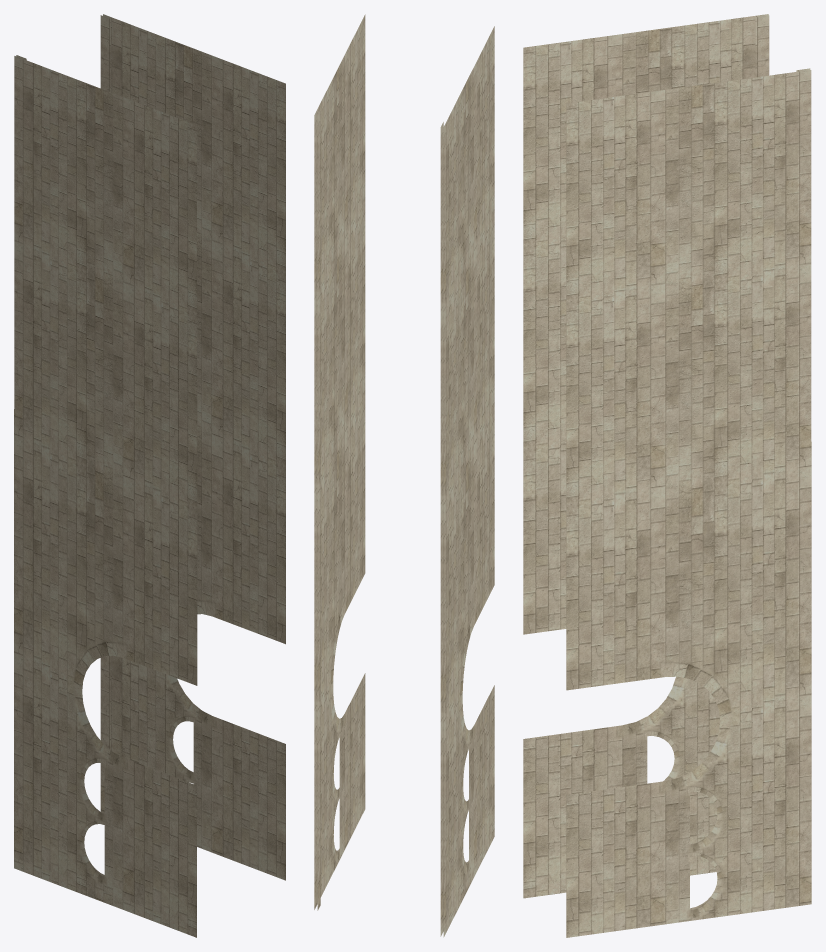
The picture shows the model from 3 angles, left to right: view 1: azimuth 30°, elevation 25°; view 2: azimuth 150°, elevation 25°; view 3: azimuth 270°, elevation 25°; orthographic projection. The views are drawn at different scales.
Parts seen in each view (by area): view 1: segment1_; view 2: segment1_; view 3: segment1_.
Part boxes in pixels (bbox=[...]): segment1_: bbox=[14, 14, 285, 937]; segment1_: bbox=[314, 14, 494, 937]; segment1_: bbox=[523, 14, 811, 937].
Bounding box in the file's own units: 458 × 2028 × 623.
